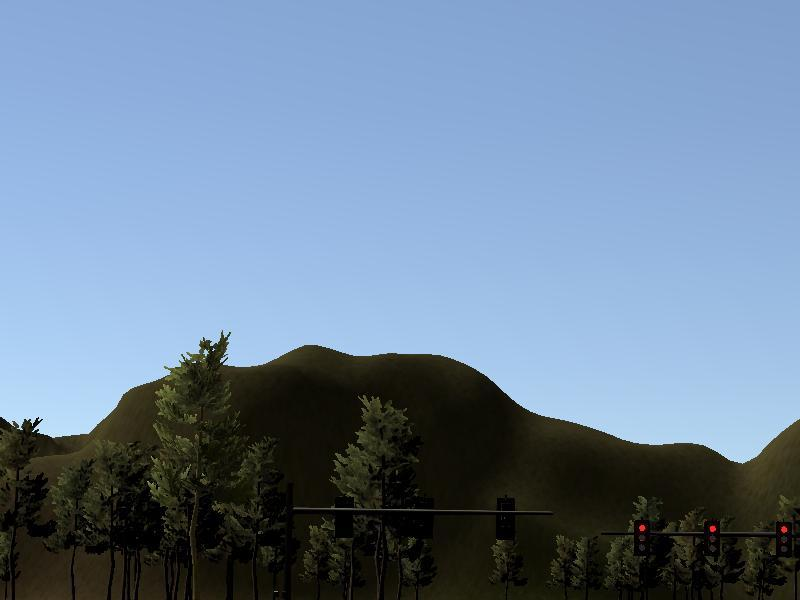Red: (775, 520, 791, 557), (703, 521, 719, 558), (633, 519, 649, 556)
